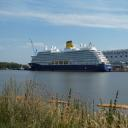cruises: (28, 41, 114, 74)
